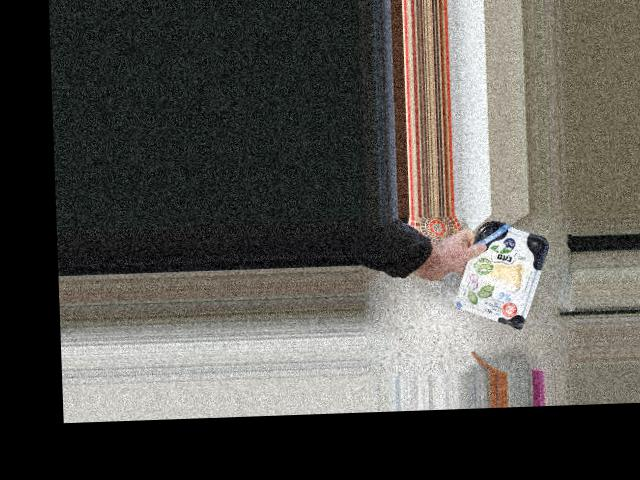cheese: (463, 230, 539, 320)
